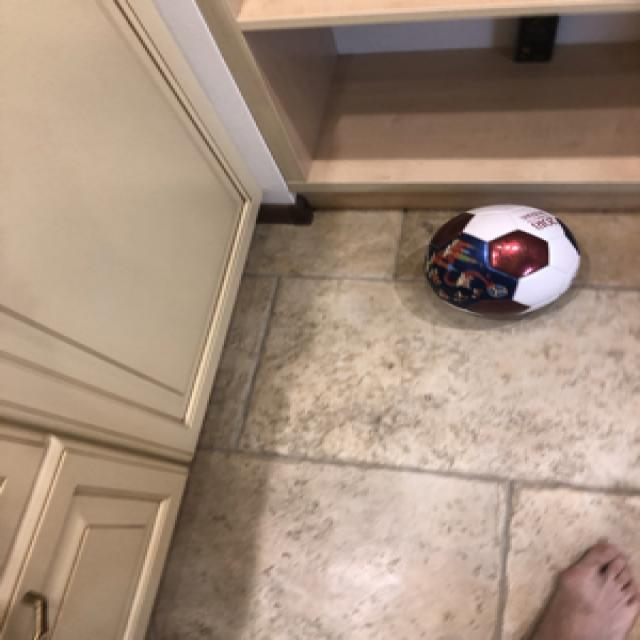soccer_ball: (420, 198, 580, 317)
